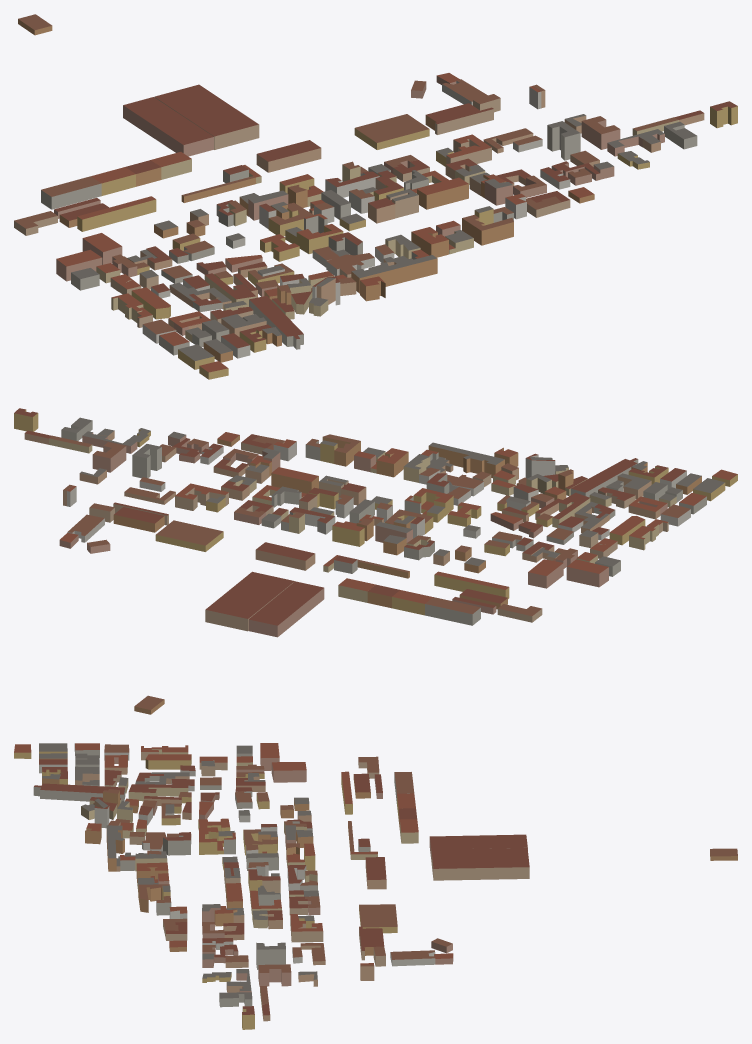
Rendered from SM_Fondale_Citta_O_01_LOD1.fbx.
3 views of the same model, one above another, from view 1: azimuth 30°, elevation 25°; view 2: azimuth 150°, elevation 25°; view 3: azimuth 270°, elevation 25° (orthographic). The views are drawn at different scales.
Parts seen in each view (by area): view 1: SM_Fondale_Citta_O_01_LOD1; view 2: SM_Fondale_Citta_O_01_LOD1; view 3: SM_Fondale_Citta_O_01_LOD1.
Boxes of the visible parts, <box> form: SM_Fondale_Citta_O_01_LOD1: <box>14,14,737,379</box>; SM_Fondale_Citta_O_01_LOD1: <box>14,408,737,714</box>; SM_Fondale_Citta_O_01_LOD1: <box>14,743,737,1029</box>.
Size of the model in its own units: 87904 by 96743 by 3576.
